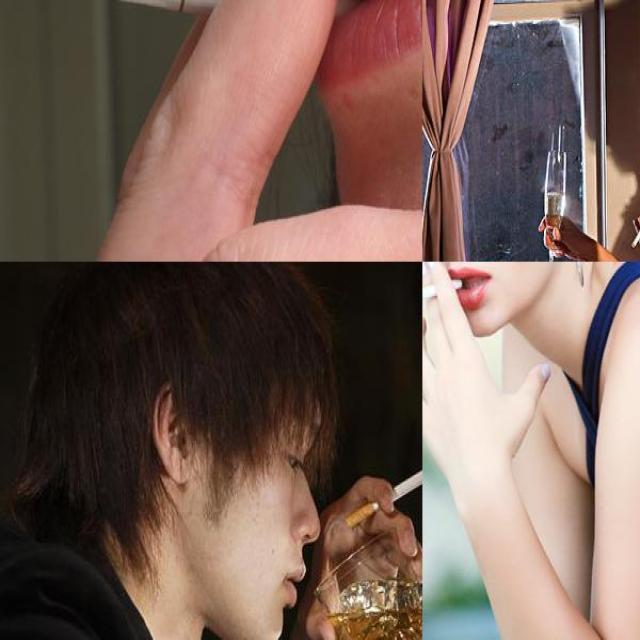smoking: (0, 0, 357, 30), (344, 463, 422, 532), (422, 276, 465, 313), (630, 212, 639, 250)
